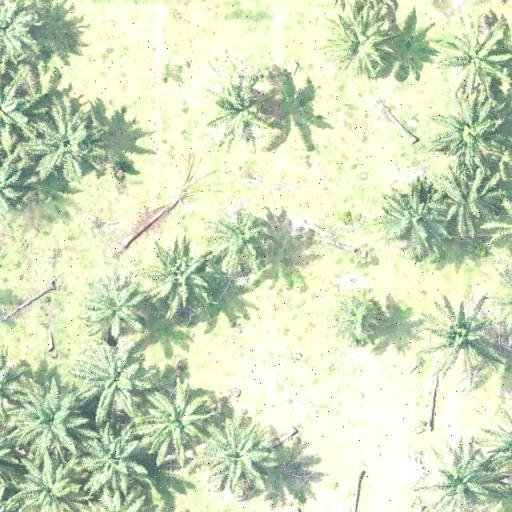Ganoderma: (214, 82, 269, 132), (332, 22, 389, 68), (437, 310, 487, 358)
